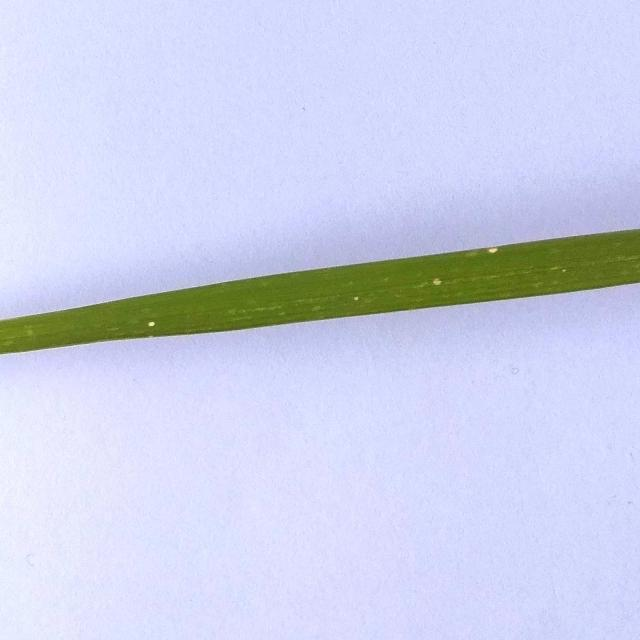Leaf_Blast: (424, 276, 451, 295), (475, 240, 506, 256), (137, 318, 162, 332), (349, 291, 367, 309)
